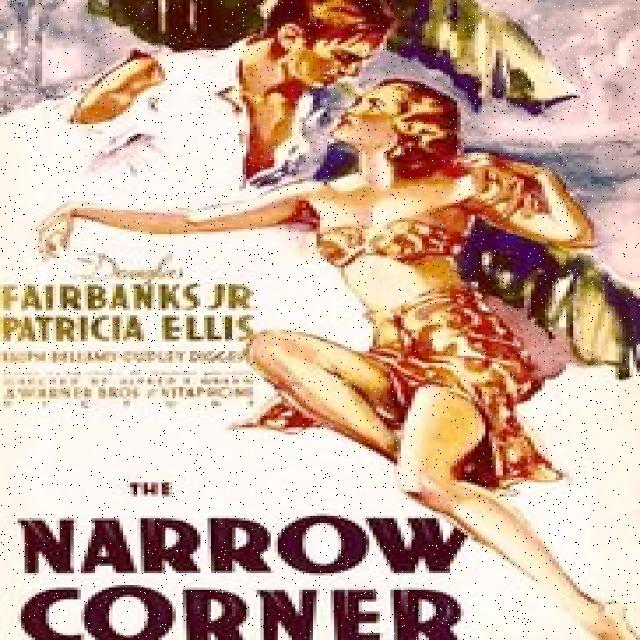movie-judul: (10, 477, 471, 640)
picture: (60, 2, 633, 640)
